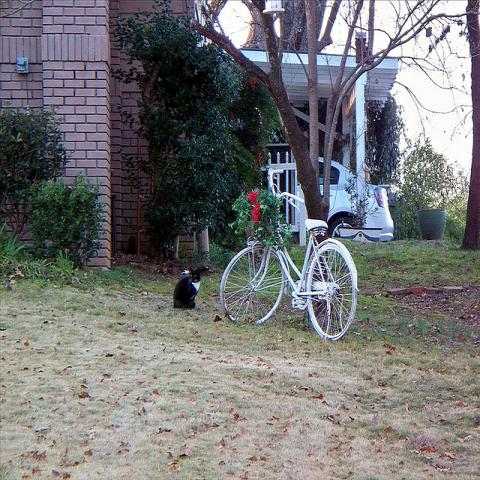car: (319, 157, 396, 242)
